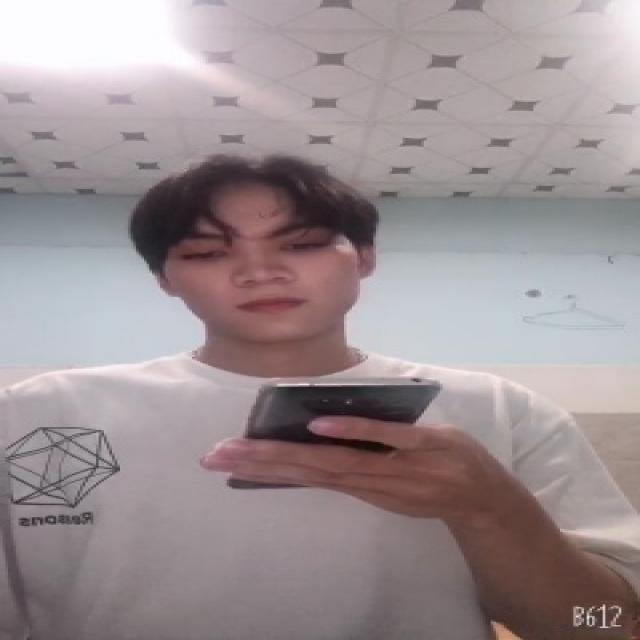Phone: (228, 374, 444, 496)
